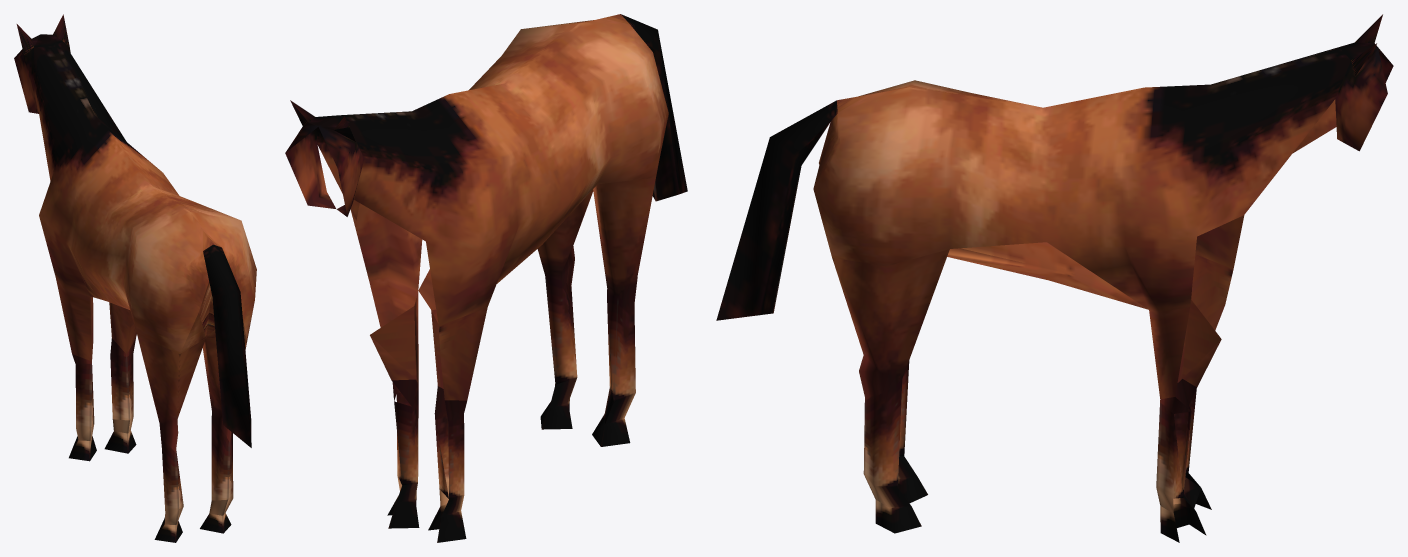
Rendered from kart_farmstead_b.dae.
3 views of the same model, side by side, from view 1: azimuth 30°, elevation 25°; view 2: azimuth 150°, elevation 25°; view 3: azimuth 270°, elevation 25° (orthographic). The views are drawn at different scales.
Parts seen in each view (by area): view 1: objhorse1-Pivot; view 2: objhorse1-Pivot; view 3: objhorse1-Pivot.
Part boxes in pixels (bbox=[...]): objhorse1-Pivot: bbox=[14, 14, 256, 542]; objhorse1-Pivot: bbox=[285, 14, 687, 542]; objhorse1-Pivot: bbox=[716, 14, 1393, 542].
Bounding box in the file's own units: 1.54 × 5.15 × 4.2.
